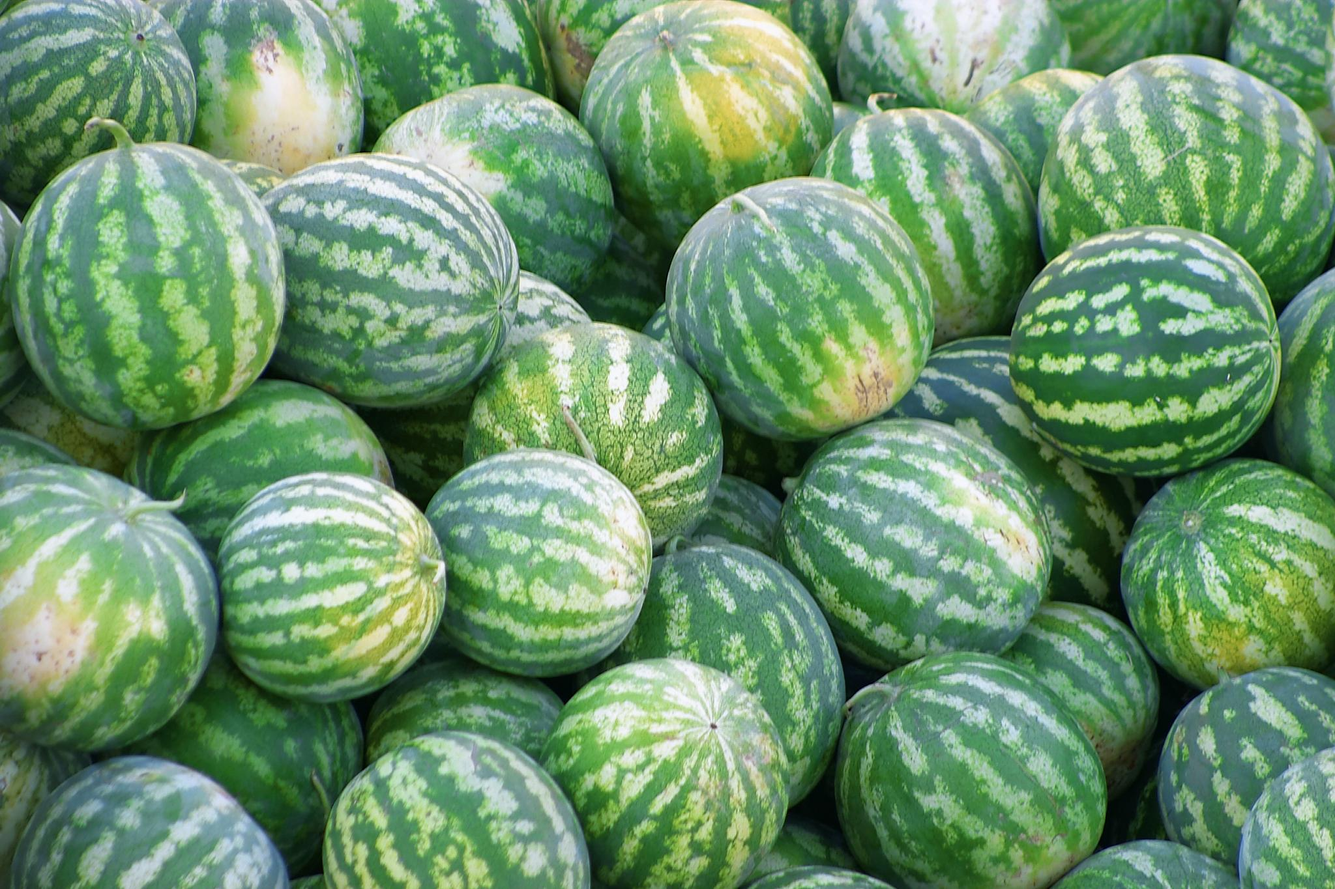dua_hau: (13, 141, 289, 430), (666, 176, 939, 435), (1006, 227, 1283, 479), (826, 647, 1110, 888), (216, 469, 446, 696)
